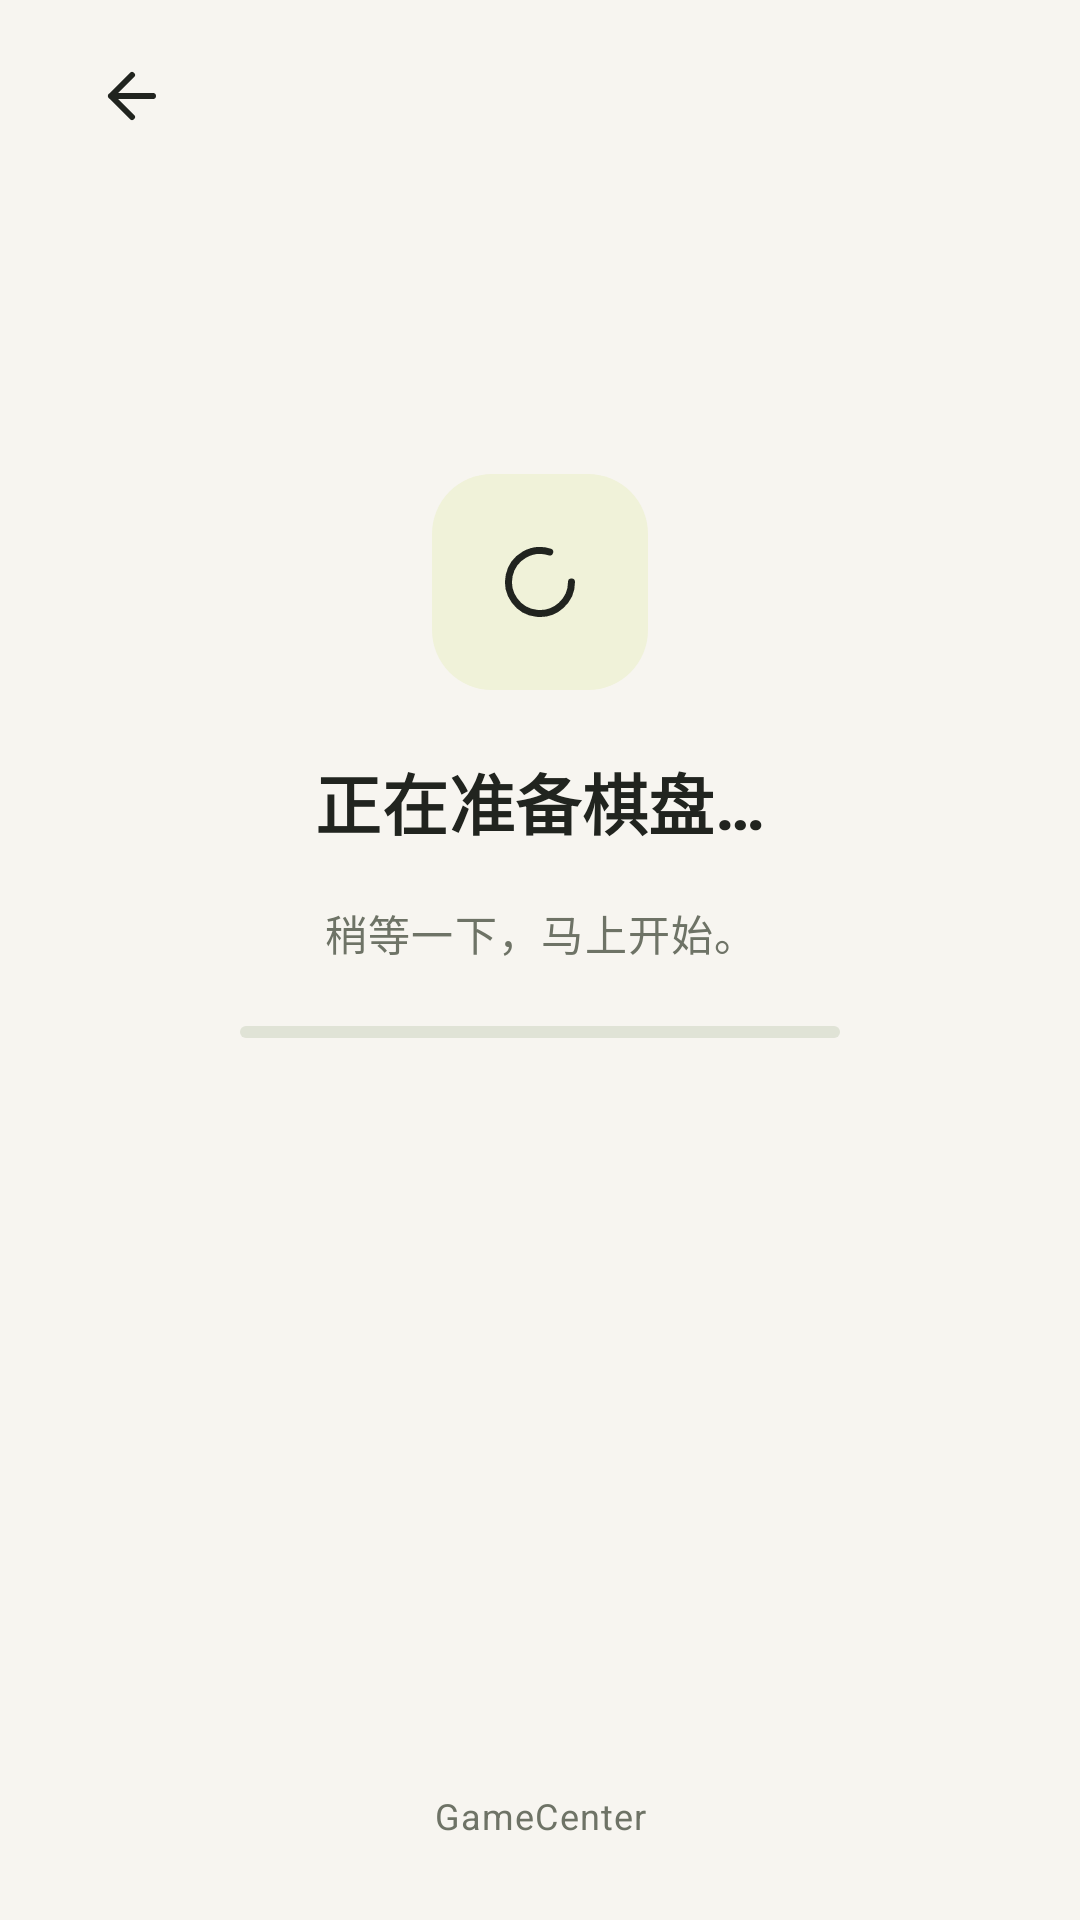

Icon bounding boxes for this 1080 x 1920 phone screenshot, format [x1=x1, y1=y1, x2=x2, y2=y2]:
loader circle: [x1=505, y1=547, x2=575, y2=617]
返回大厅: [x1=108, y1=72, x2=156, y2=120]
